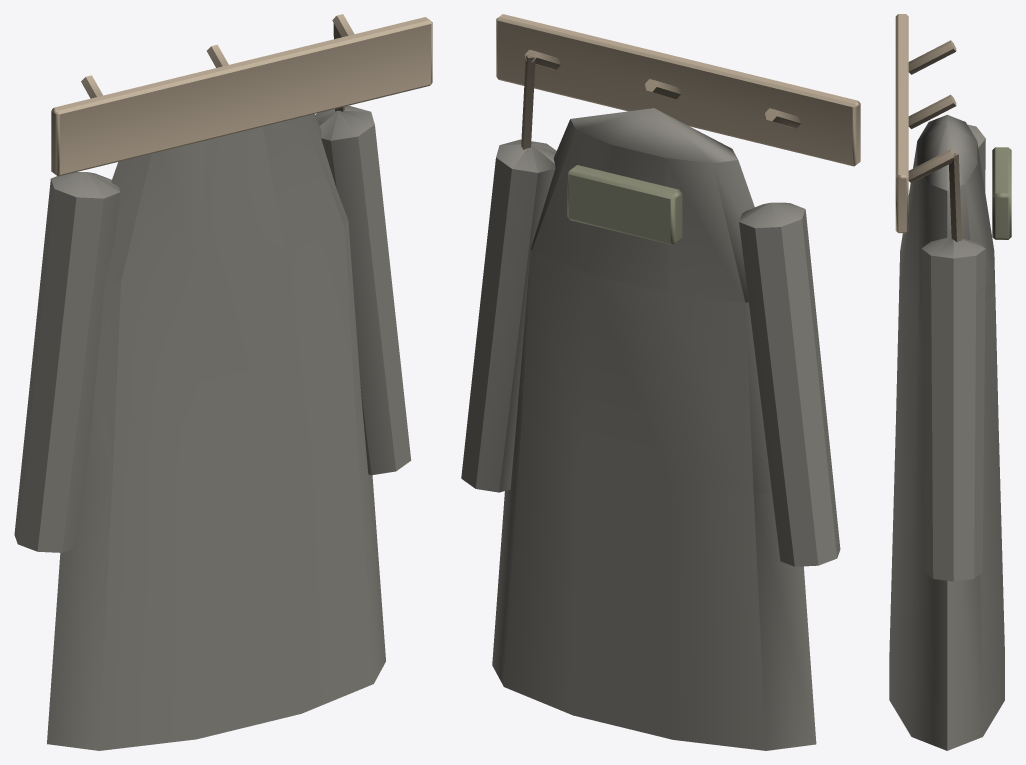
File: jacket_hook.glb
3 renders of one model, left to right at view 1: azimuth 30°, elevation 25°; view 2: azimuth 150°, elevation 25°; view 3: azimuth 270°, elevation 25°, orthographic. The views are drawn at different scales.
Visible parts, largest first — view 1: static; view 2: static; view 3: static.
Boxes of the visible parts, x1,y1,x2,y2 form: static: [14, 14, 432, 750]; static: [461, 14, 860, 750]; static: [889, 14, 1011, 750].
Size of the model in its own units: 0.621 by 1 by 0.1899.
